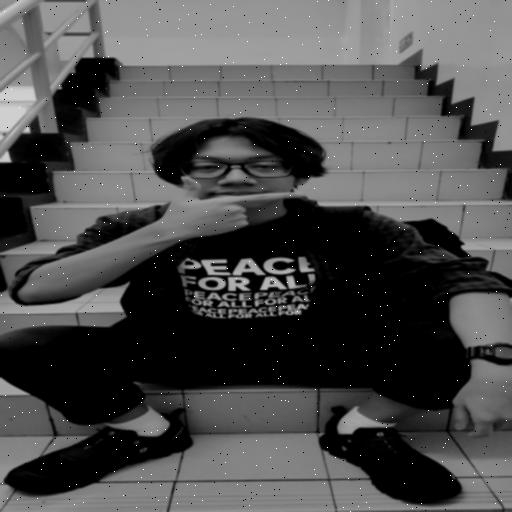next: (143, 169, 330, 247)
